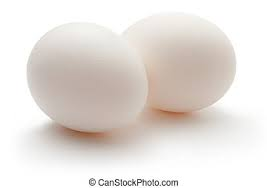eggs: (18, 26, 144, 139), (124, 14, 228, 115)
